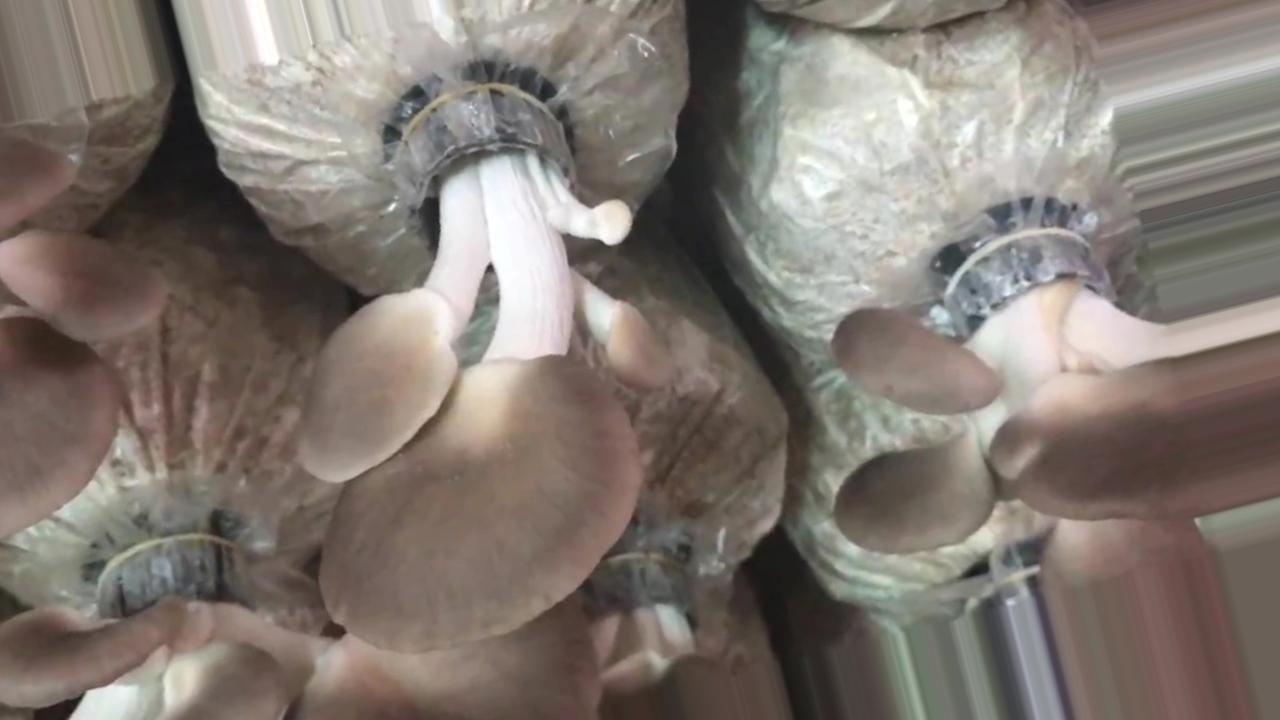nam: (305, 80, 674, 656), (830, 200, 1280, 553), (1, 542, 606, 718), (1, 124, 175, 538)
